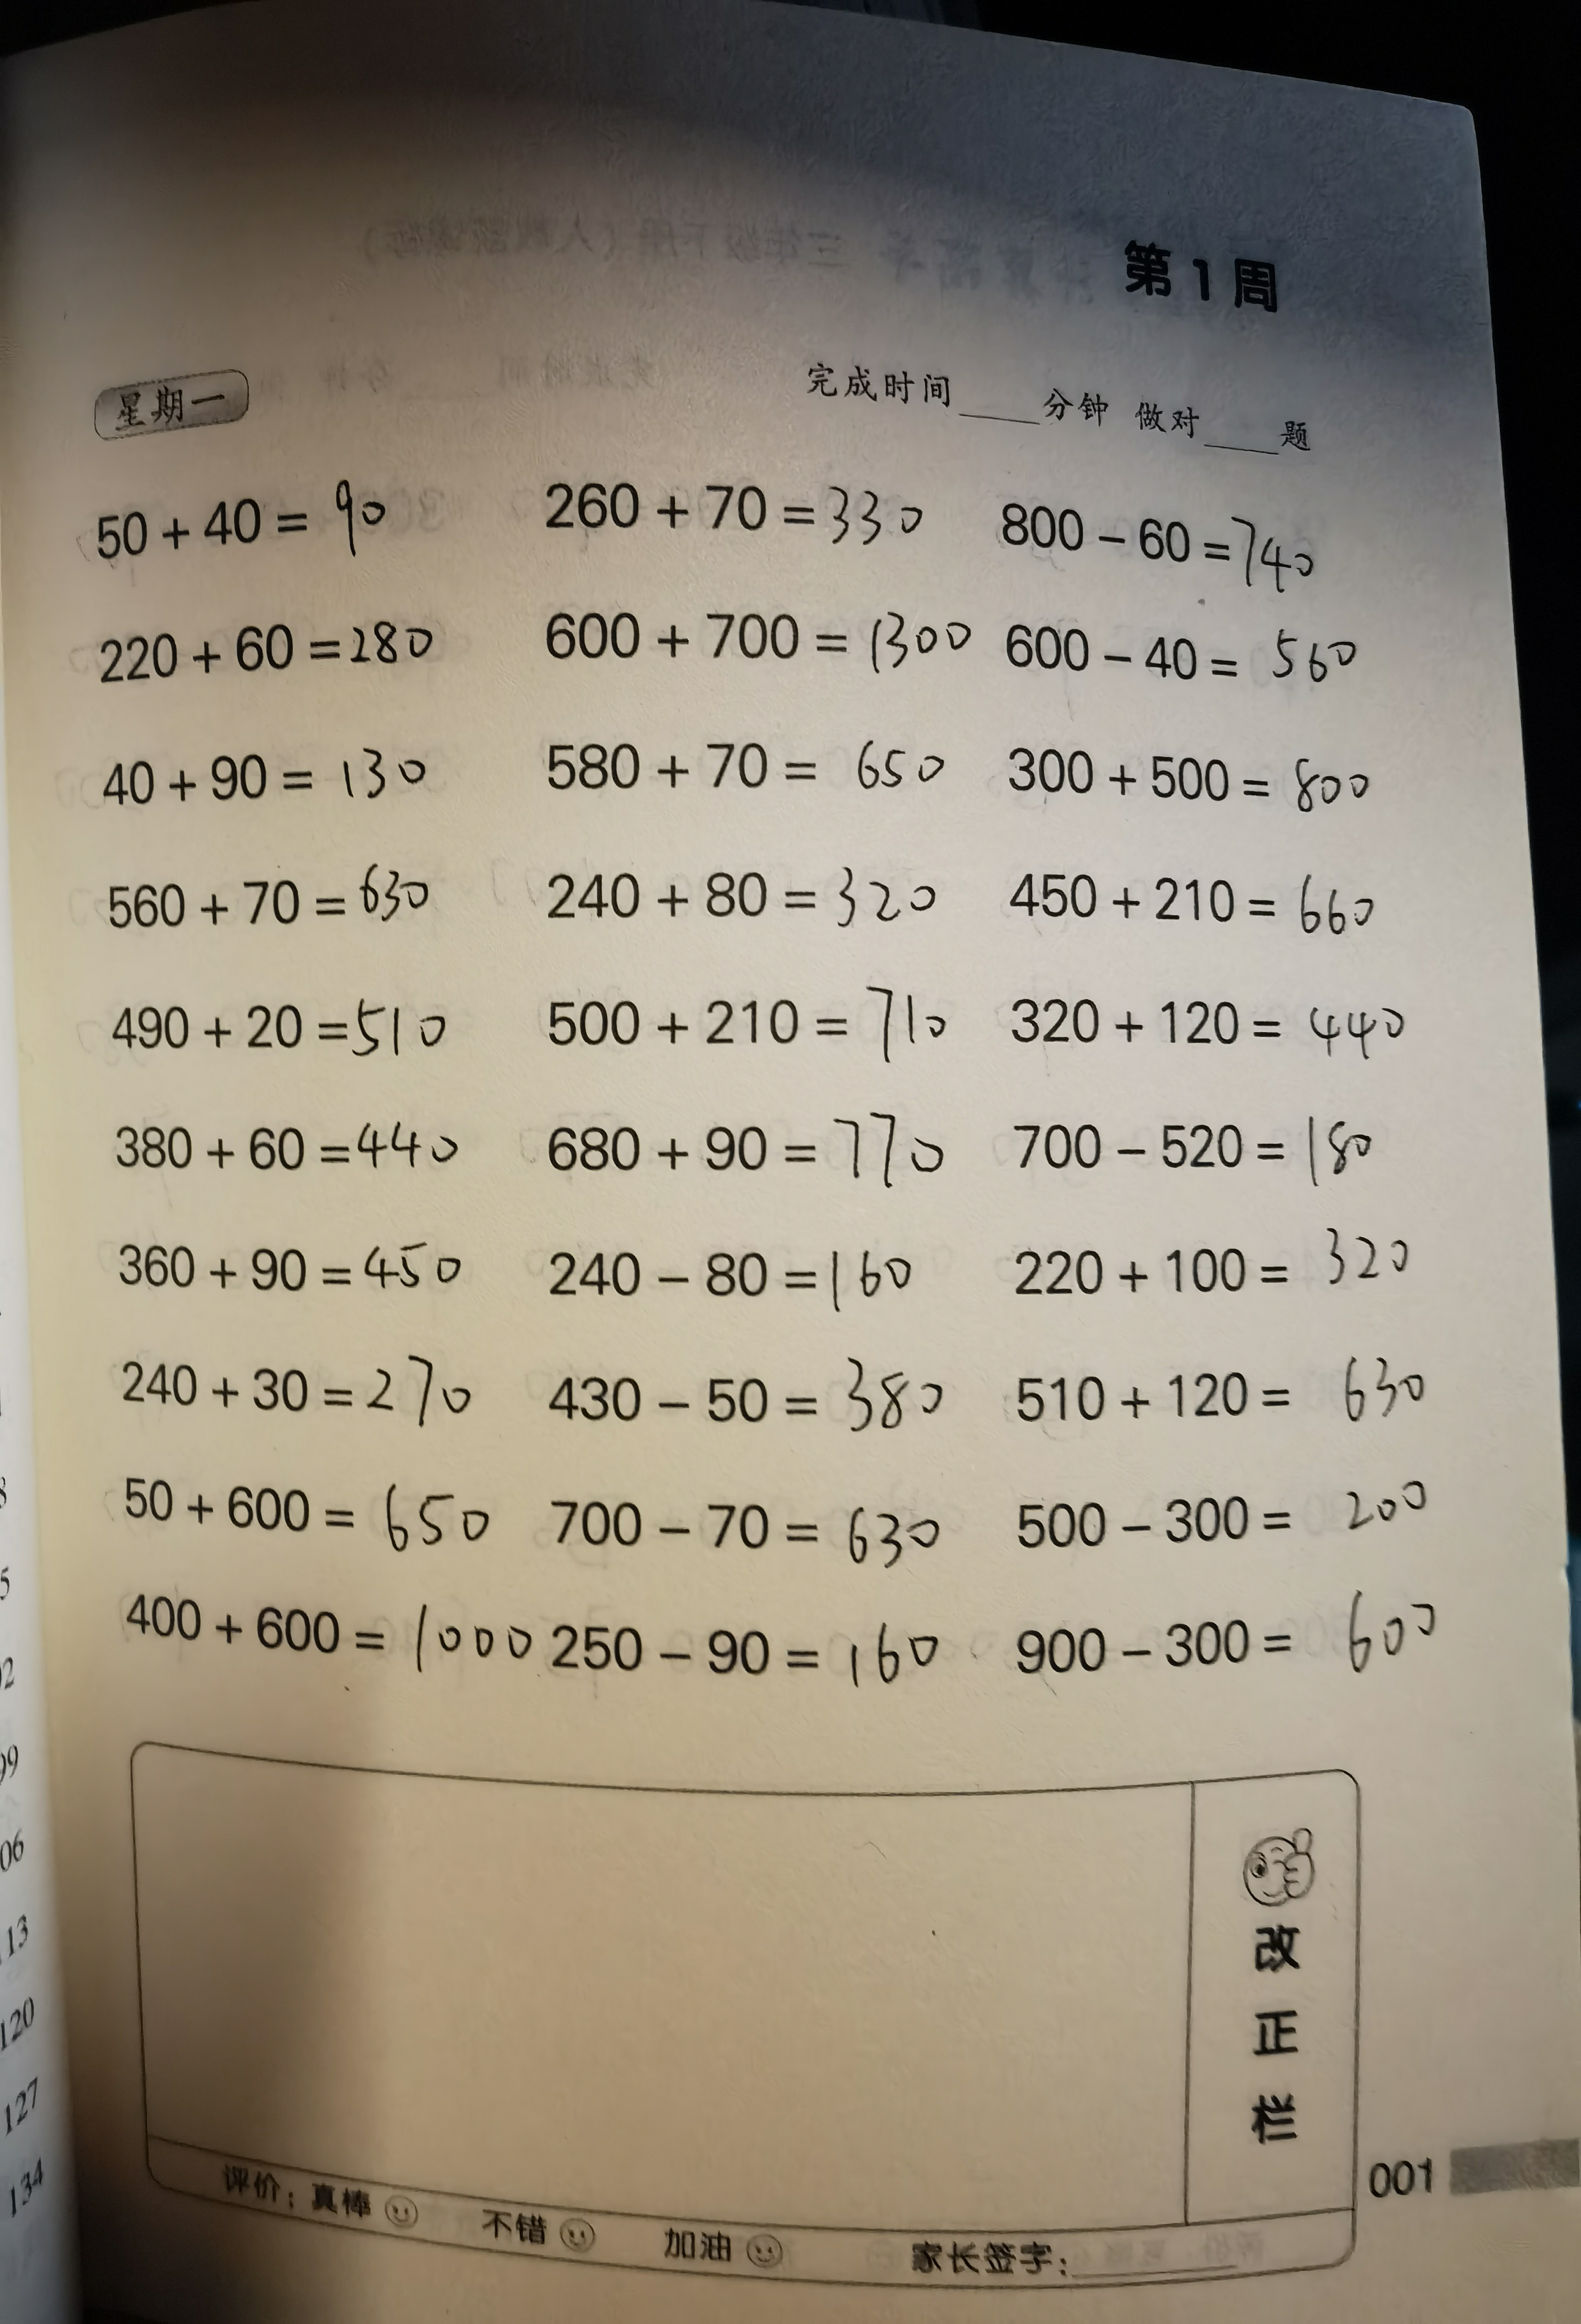equation: (101, 1574, 543, 1696), (97, 1442, 521, 1565), (524, 443, 942, 563), (92, 1089, 503, 1205), (97, 1322, 512, 1436), (510, 591, 978, 690), (545, 1472, 970, 1579), (552, 1601, 951, 1710), (95, 1219, 496, 1325), (528, 1357, 972, 1451), (1004, 1592, 1461, 1682), (1008, 1472, 1463, 1560), (538, 1108, 972, 1200), (512, 729, 983, 810), (1018, 1098, 1373, 1205), (540, 849, 962, 939), (526, 978, 981, 1061), (67, 487, 446, 584), (1009, 854, 1389, 951), (64, 859, 489, 946), (92, 976, 473, 1071), (1011, 981, 1424, 1066), (74, 734, 450, 824), (999, 1357, 1452, 1429), (1008, 732, 1378, 821), (64, 618, 478, 695), (1009, 612, 1366, 699), (1008, 1232, 1433, 1301), (993, 491, 1353, 563), (547, 1248, 932, 1311)
